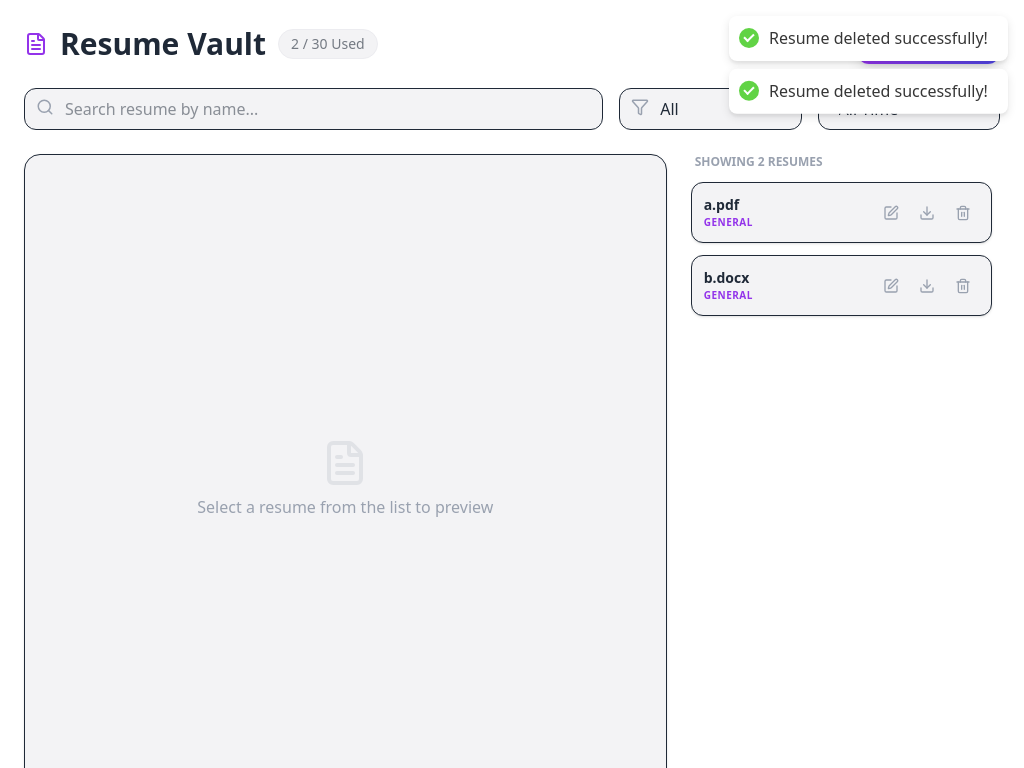
Scenario: Resume Vault delete and preview › empties the viewer pane when a previewed Word resume is deleted
Step 1. Click the text "b.docx" → click(727, 278), box [704, 268, 749, 287]
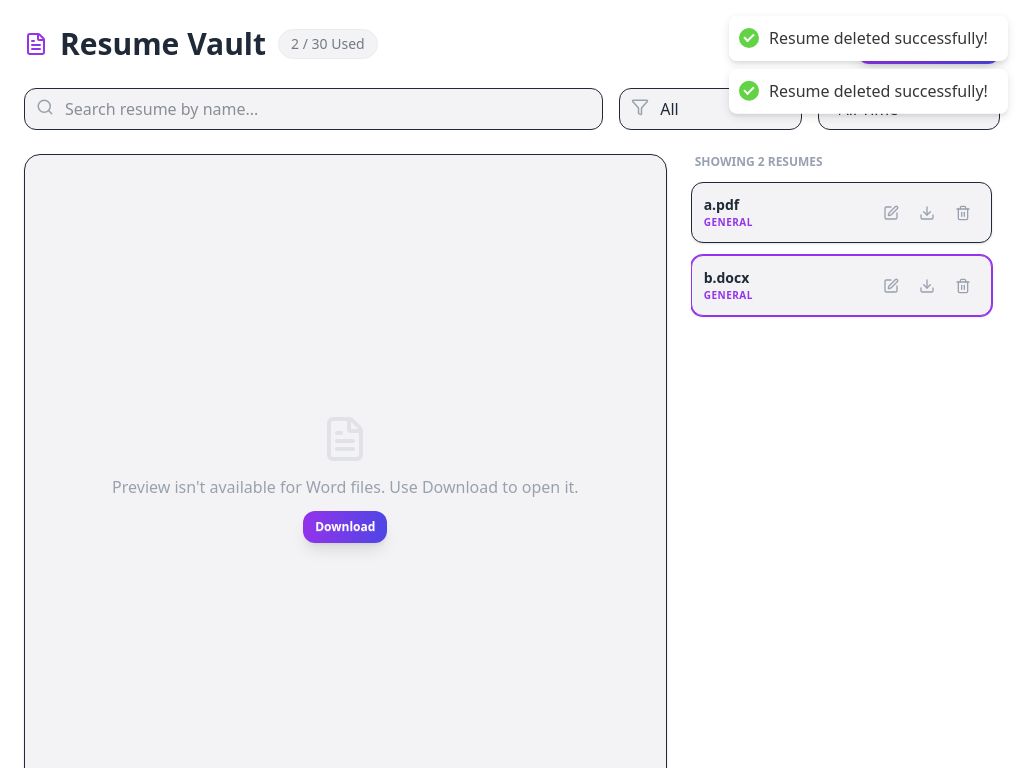
Now the text "Preview isn't available for Word files" is shown, box [112, 476, 579, 498]
Step 2. Click the 6th button → click(963, 286), box [947, 270, 979, 302]
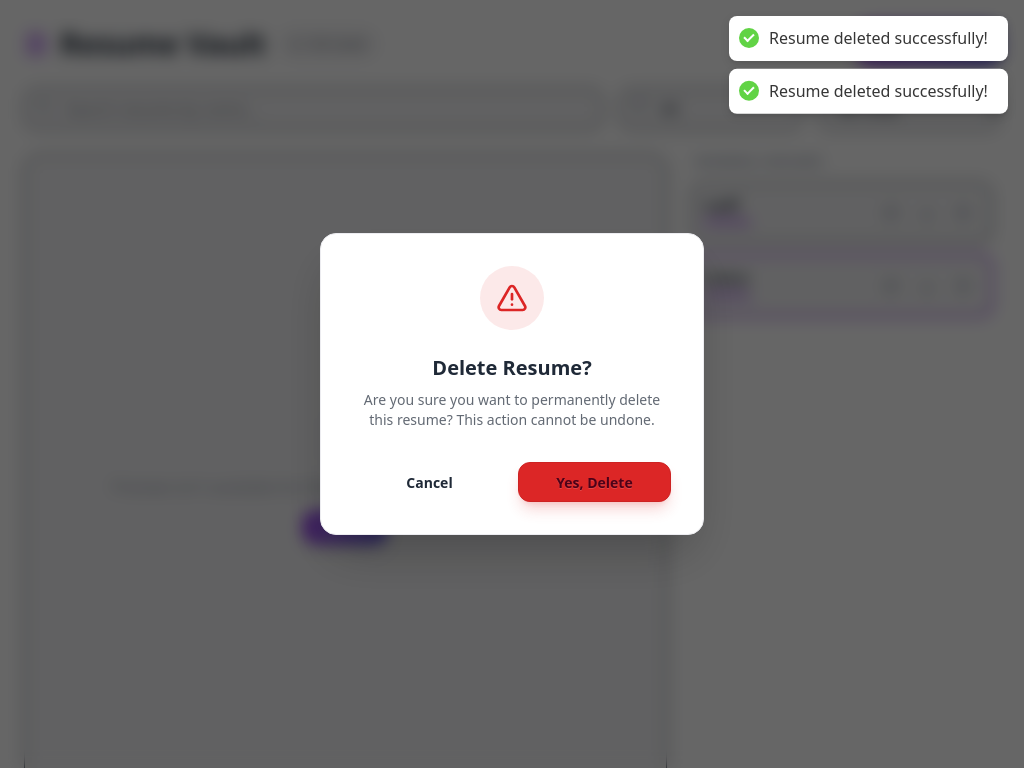
Step 3. Click the button "Yes, Delete" → click(594, 482), box [518, 462, 671, 502]
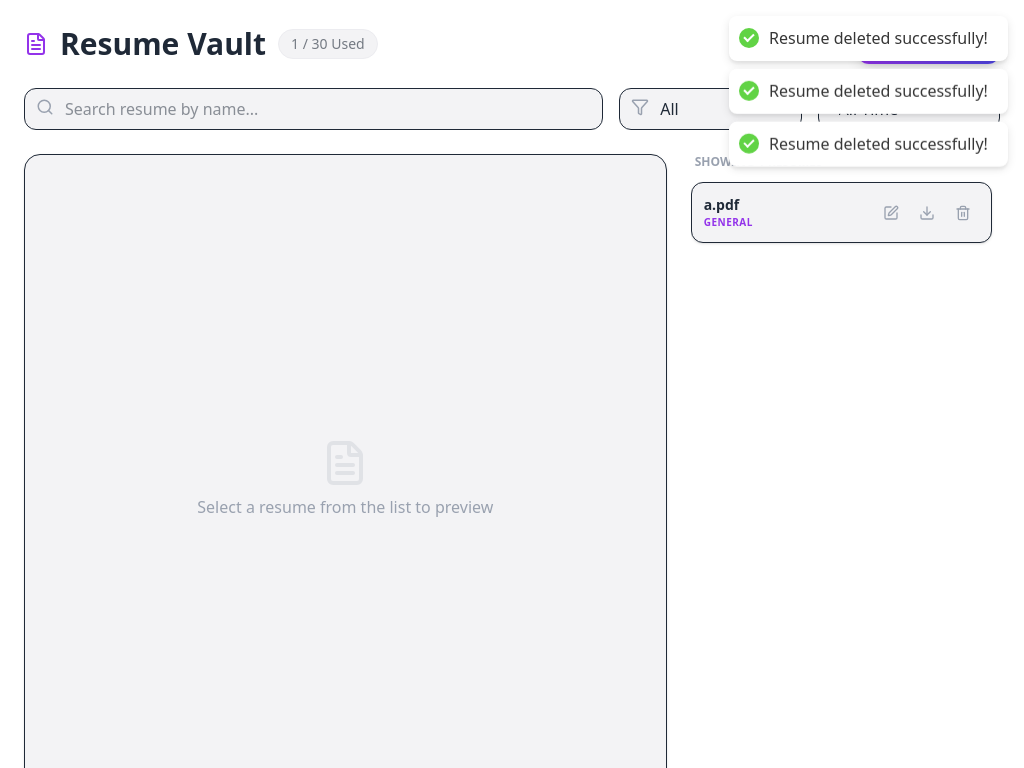
Now the text "b.docx" is gone
Now the text "Preview isn't available for Word files" is gone
